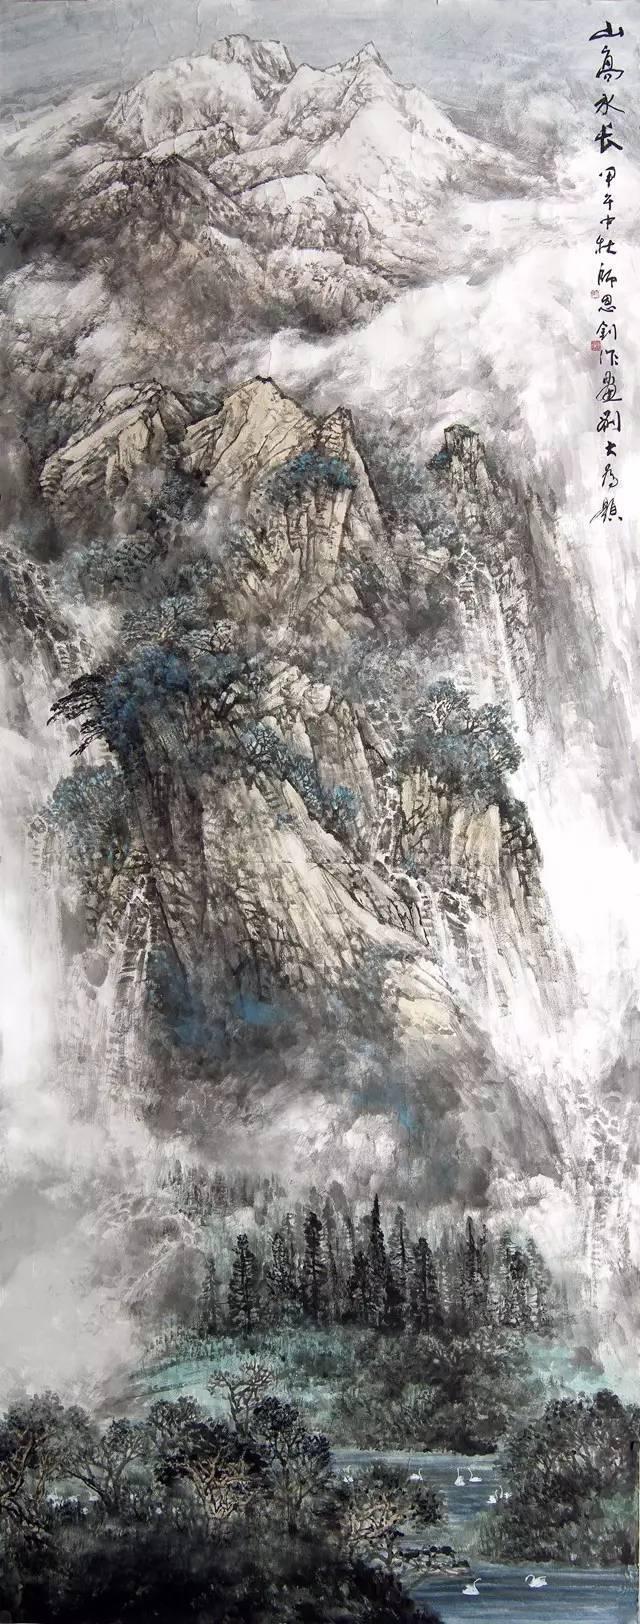mountain: (47, 392, 470, 1043), (1, 30, 532, 339)
pine: (61, 511, 285, 805), (1, 1394, 425, 1539), (198, 1205, 557, 1330), (491, 1397, 640, 1569), (396, 686, 517, 788)
